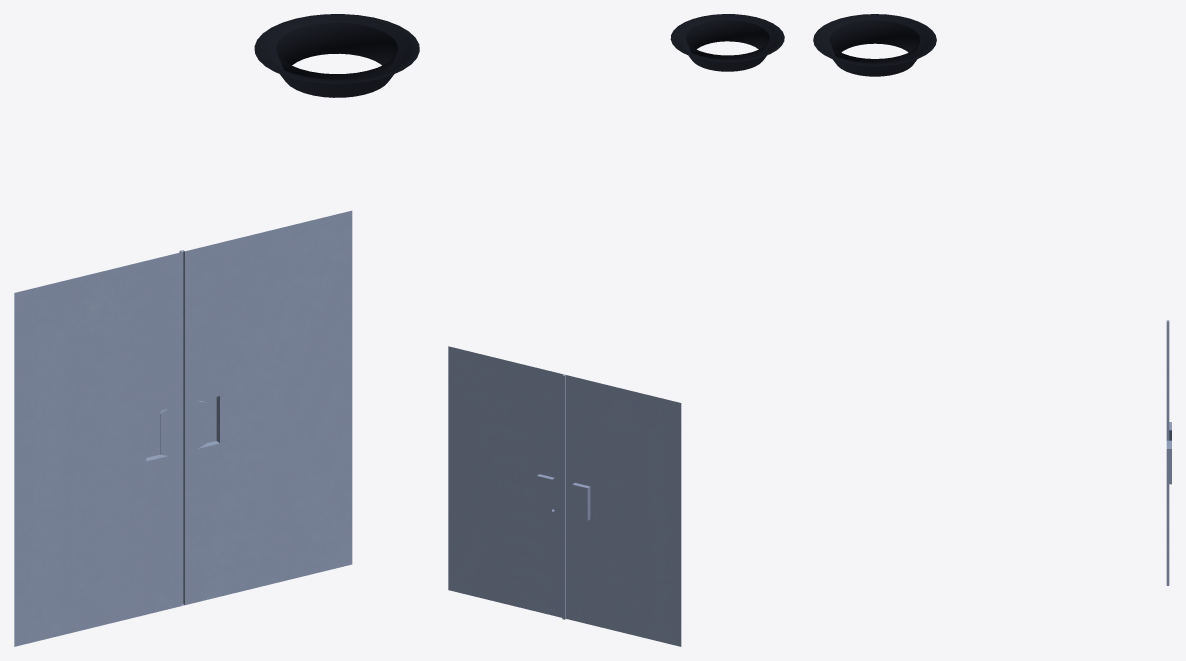
Rendered from Firing Range Glowup Door_Lights.fbx.
3 views of the same model, side by side, from view 1: azimuth 30°, elevation 25°; view 2: azimuth 150°, elevation 25°; view 3: azimuth 270°, elevation 25° (orthographic). The views are drawn at different scales.
Visible parts, largest first — view 1: Door, CeilingLight; view 2: Door, CeilingLight; view 3: CeilingLight, Door.
Part boxes in pixels (bbox=[...]): Door: bbox=[14, 210, 352, 646]; CeilingLight: bbox=[254, 14, 419, 97]; Door: bbox=[448, 346, 681, 646]; CeilingLight: bbox=[670, 14, 784, 71]; CeilingLight: bbox=[813, 14, 936, 76]; Door: bbox=[1166, 320, 1171, 585].
Size of the model in its own units: 200 by 401 by 246.
